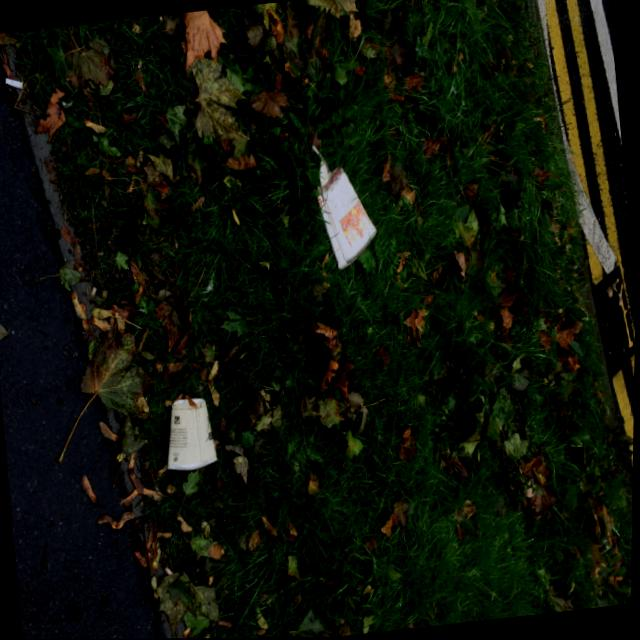Paper cup: (312, 144, 377, 269), (168, 397, 218, 469)
Unlabeled litter: (5, 76, 22, 88)
